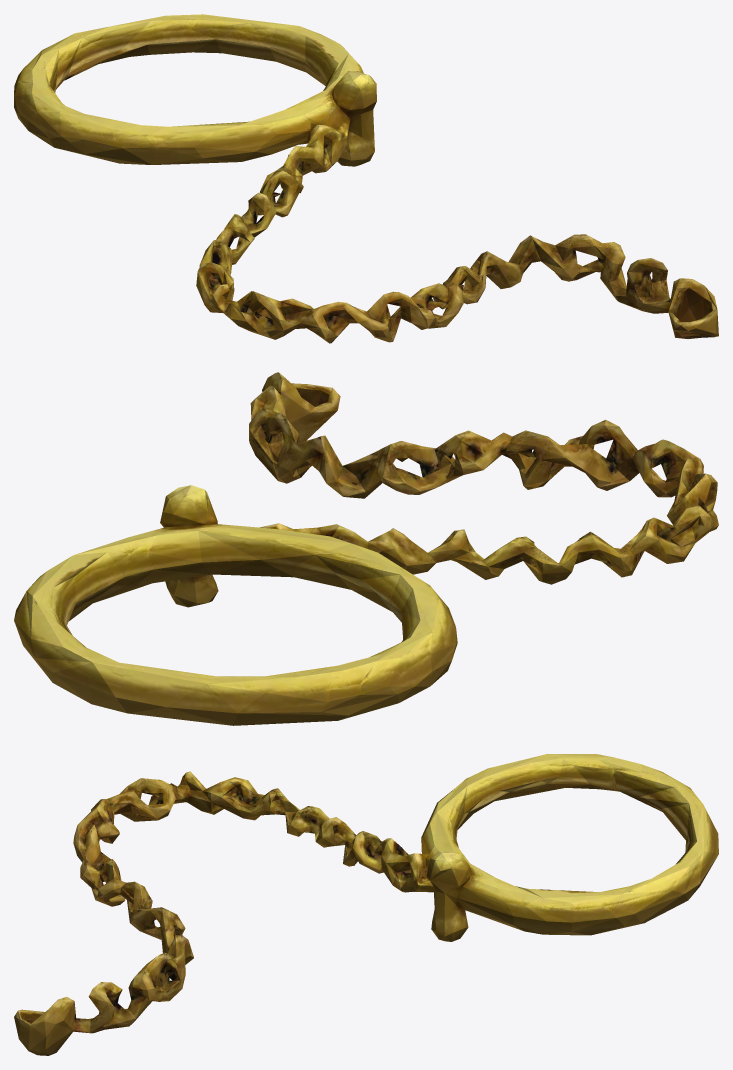
The model's file is gold_chain.glb.
3 views of the same model, one above another, from view 1: azimuth 30°, elevation 25°; view 2: azimuth 150°, elevation 25°; view 3: azimuth 270°, elevation 25° (orthographic). The views are drawn at different scales.
Parts seen in each view (by area): view 1: geometry_0; view 2: geometry_0; view 3: geometry_0.
Boxes of the visible parts, x1,y1,x2,y2 form: geometry_0: [14, 14, 718, 343]; geometry_0: [14, 372, 718, 725]; geometry_0: [14, 754, 718, 1055].
Size of the model in its own units: 0.2762 by 0.0905 by 0.41.
Materials: 1 (1 with a texture image).
